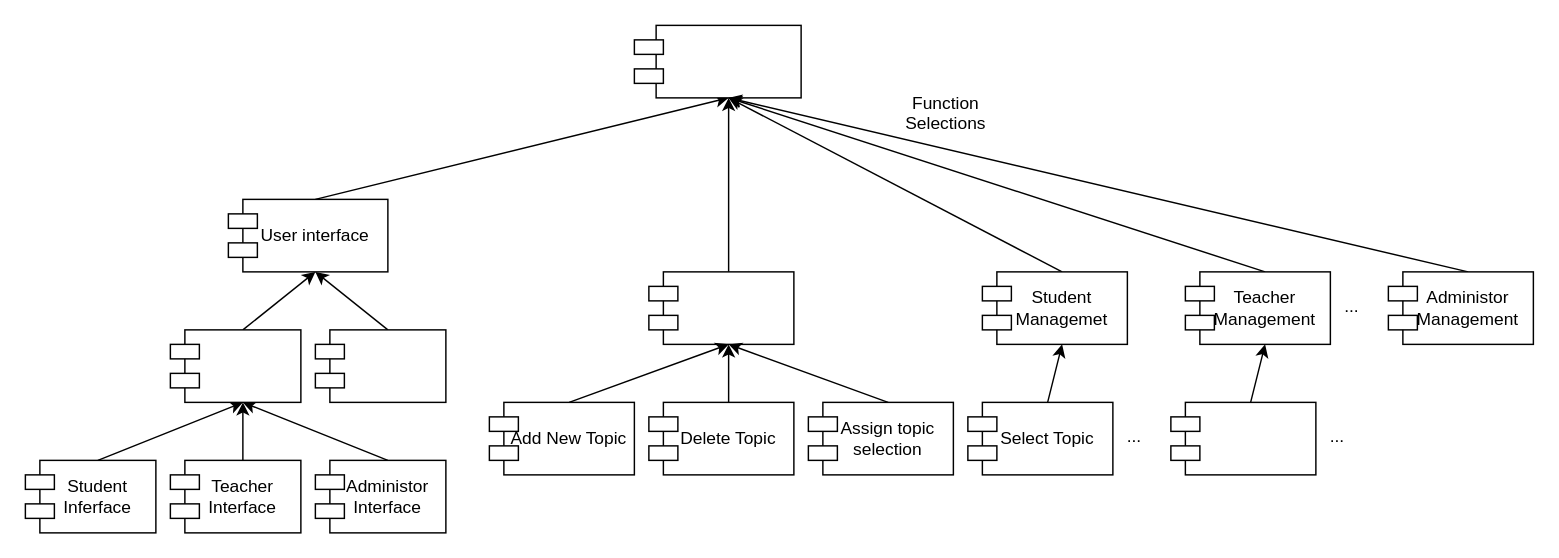
Some shapes in this 1559 by 558 pixel diagram are drawn without their labels. Here are the shapes that lost their labels. From the top down, the centre of each, then its label:
pixel 728 61: Topic selection system
pixel 728 307: Topic Management
pixel 242 365: Internet Interface
pixel 387 365: GUI/CLI
pixel 1250 438: Manage Student
